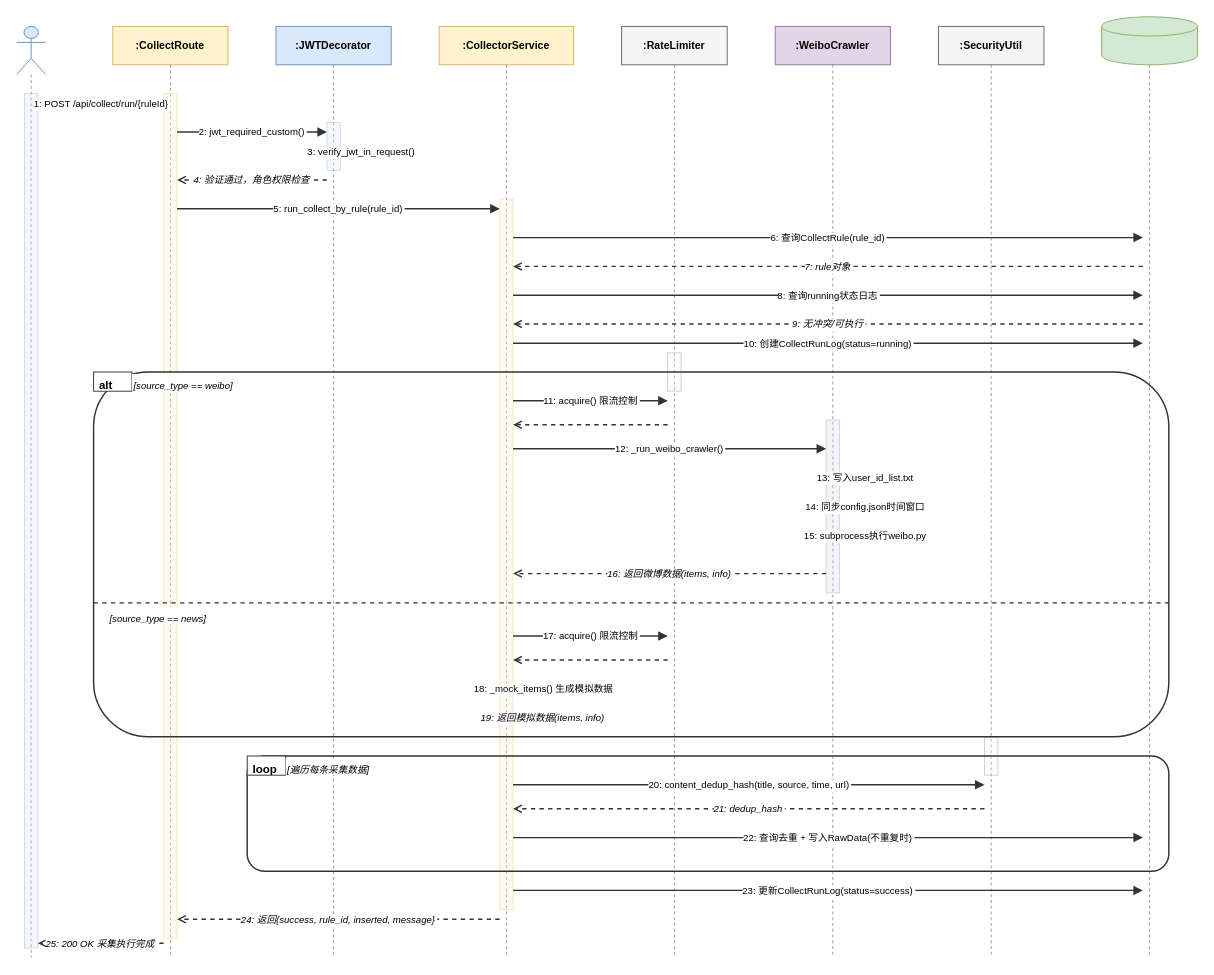
This 1214x975 diagram has some shape labels left out. Here are the shapes that lost their labels. From the top down, the centre of each, then its label:
point 31,49: 用户
point 1149,40: :Database
